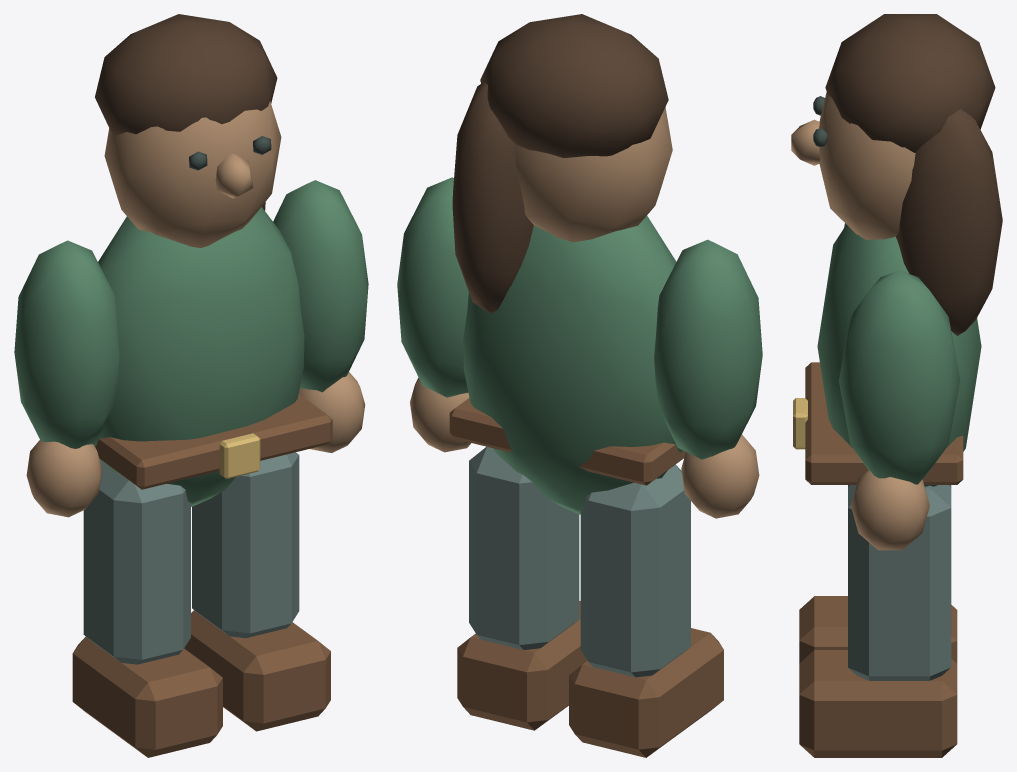
The model's file is citizen_3.glb.
3 views of the same model, side by side, from view 1: azimuth 30°, elevation 25°; view 2: azimuth 150°, elevation 25°; view 3: azimuth 270°, elevation 25° (orthographic). The views are drawn at different scales.
Parts seen in each view (by area): view 1: Body, LegL, LegR, ArmL, ArmR; view 2: Body, LegL, LegR, ArmL, ArmR; view 3: Body, LegR, ArmR, LegL.
Part boxes in pixels (x1,y1,x2,y2): Body: [93, 14, 332, 506]; LegL: [72, 459, 222, 757]; LegR: [184, 452, 330, 731]; ArmL: [14, 240, 119, 517]; ArmR: [273, 180, 368, 452]; Body: [449, 14, 685, 514]; LegL: [569, 464, 723, 757]; LegR: [457, 446, 587, 730]; ArmL: [654, 239, 762, 518]; ArmR: [397, 177, 470, 452]; Body: [791, 14, 1002, 486]; LegR: [799, 485, 957, 757]; ArmR: [838, 270, 960, 550]; LegL: [799, 485, 957, 663].
Bounding box in the file's own units: 0.6512 × 1.26 × 0.3483.
